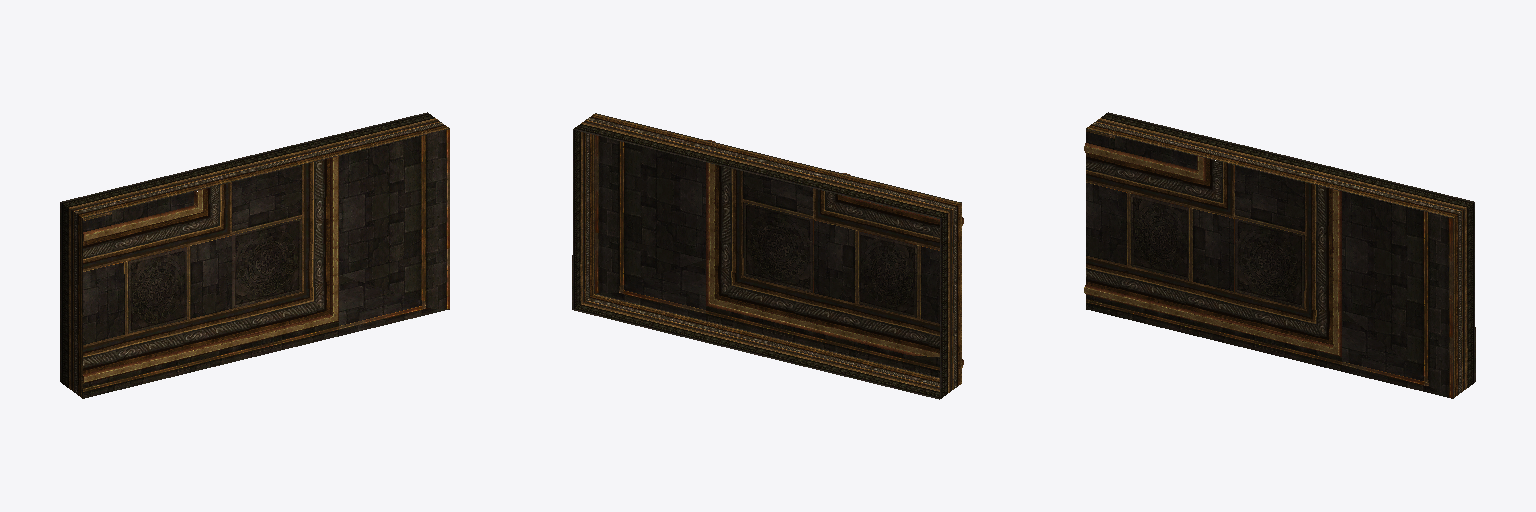
The picture shows the model from 3 angles: view 1: azimuth 30°, elevation 25°; view 2: azimuth 150°, elevation 25°; view 3: azimuth 330°, elevation 25°; orthographic projection.
Visible parts, largest first — view 1: Object03; view 2: Object03; view 3: Object03.
Boxes of the visible parts, box(x1,y1,x2,y2) form: Object03: box(60, 112, 449, 398); Object03: box(572, 113, 963, 399); Object03: box(1084, 112, 1475, 398).
Size of the model in its own units: 780 by 366 by 87.49.
4 materials, 4 textured.